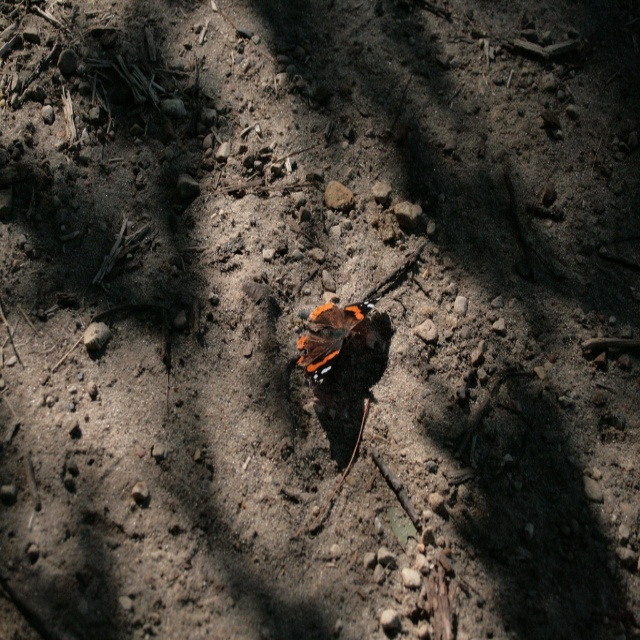Butterfly: (305, 278, 396, 418)
